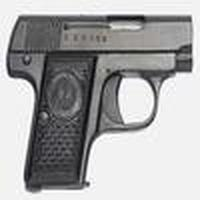gun: (2, 9, 196, 199)
